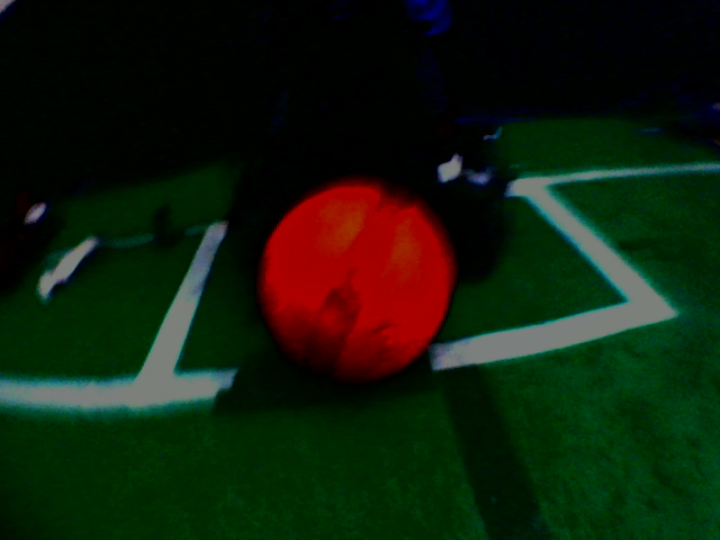bola: (256, 177, 466, 390)
